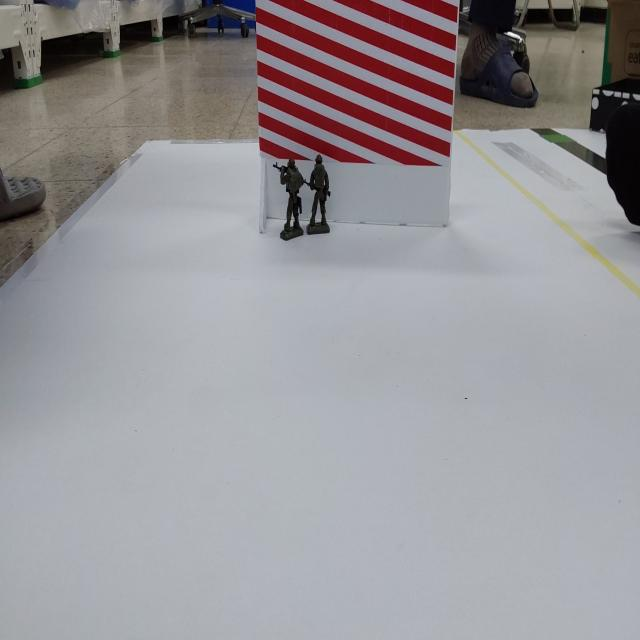enem: (274, 159, 305, 240), (306, 154, 330, 234)
